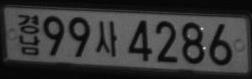2: (155, 20, 178, 64)
4: (127, 19, 152, 61)
6: (208, 22, 233, 66)
8: (180, 21, 205, 64)
9: (41, 14, 65, 56), (67, 15, 90, 57)
경남_V: (16, 13, 41, 56)
사: (95, 19, 118, 57)
